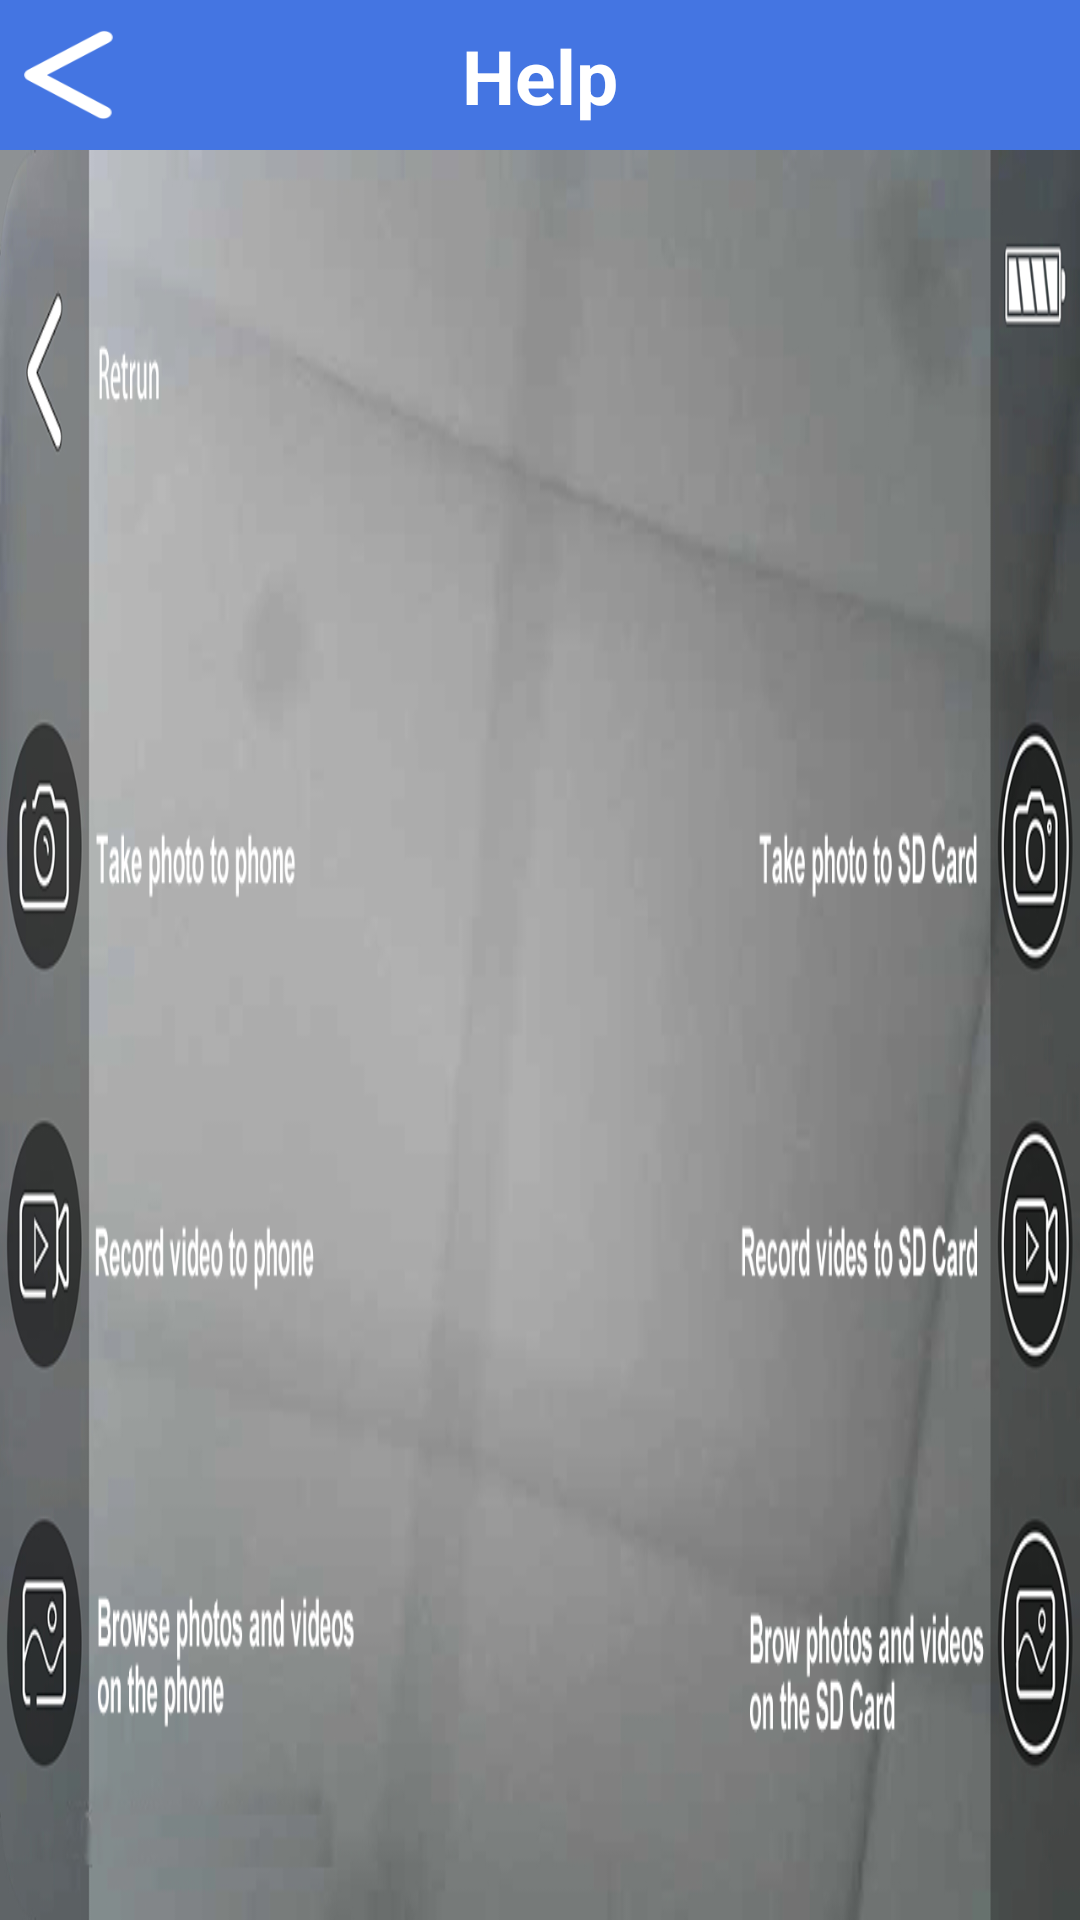

Named icons in this screenshot (1080px x 1920px) and their centers, point (x, y):
back: point (68, 75)
